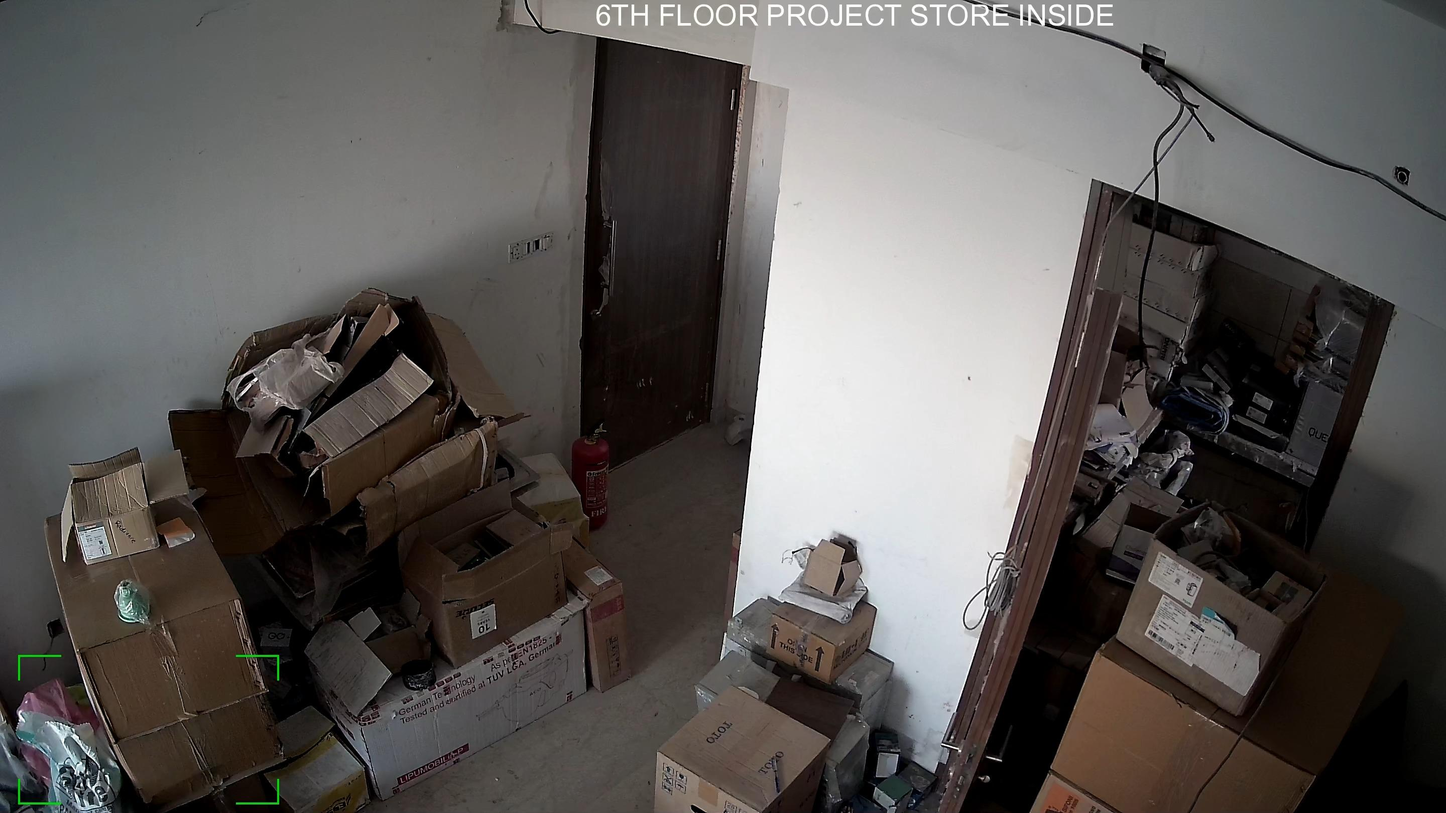Door-Close: (560, 31, 742, 486)
